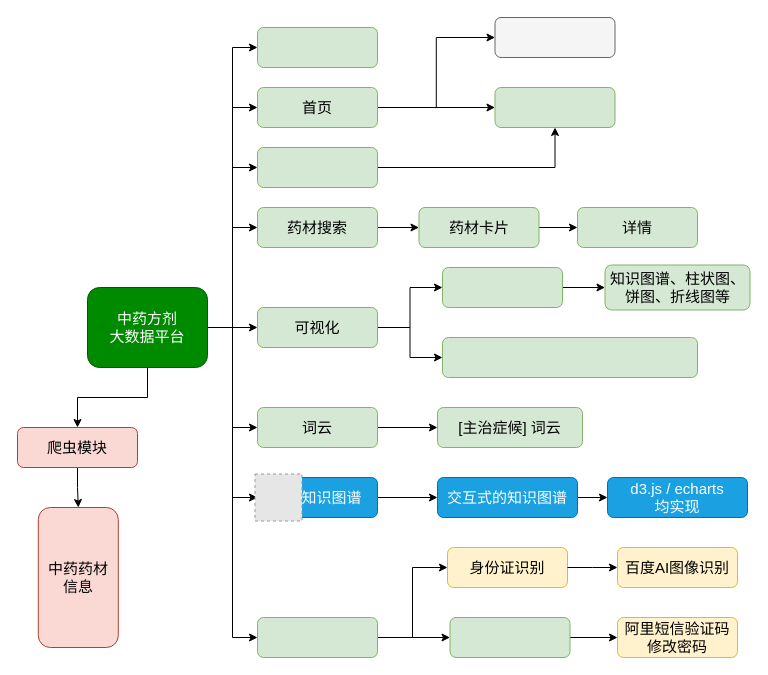
Image size: 768x675. Some labels were removed from this diagram. Grey dashed boxes stand in for pictures. The shapes that lost their labels are listed below. From the top down, each one's centre as x and y in pixels, then its label:
At (317,47): "登录与注册".
At (554,37): "轮播图".
At (554,107): "方剂卡片".
At (317,167): "方剂搜索".
At (502,287): "Echarts分析大屏".
At (570,357): "中药关键词提取、临床关键词分析".
At (317,637): "设置".
At (509,637): "修改个人信息".
